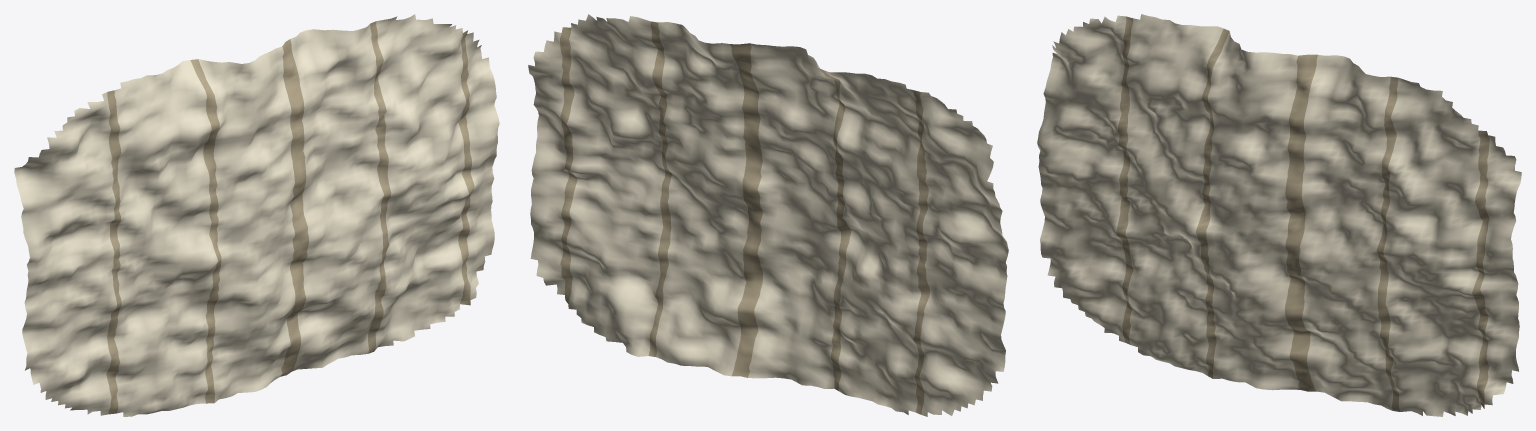
Rendered from parachute.fbx.
The picture shows the model from 3 angles, left to right: view 1: azimuth 30°, elevation 25°; view 2: azimuth 150°, elevation 25°; view 3: azimuth 330°, elevation 25°; orthographic projection.
Parts seen in each view (by area): view 1: Airbag_Sheet; view 2: Airbag_Sheet; view 3: Airbag_Sheet.
Boxes of the visible parts, x1,y1,x2,y2 form: Airbag_Sheet: (14,14,499,416); Airbag_Sheet: (528,14,1008,416); Airbag_Sheet: (1037,14,1521,416).
Size of the model in its own units: 330 by 223 by 40.32.
